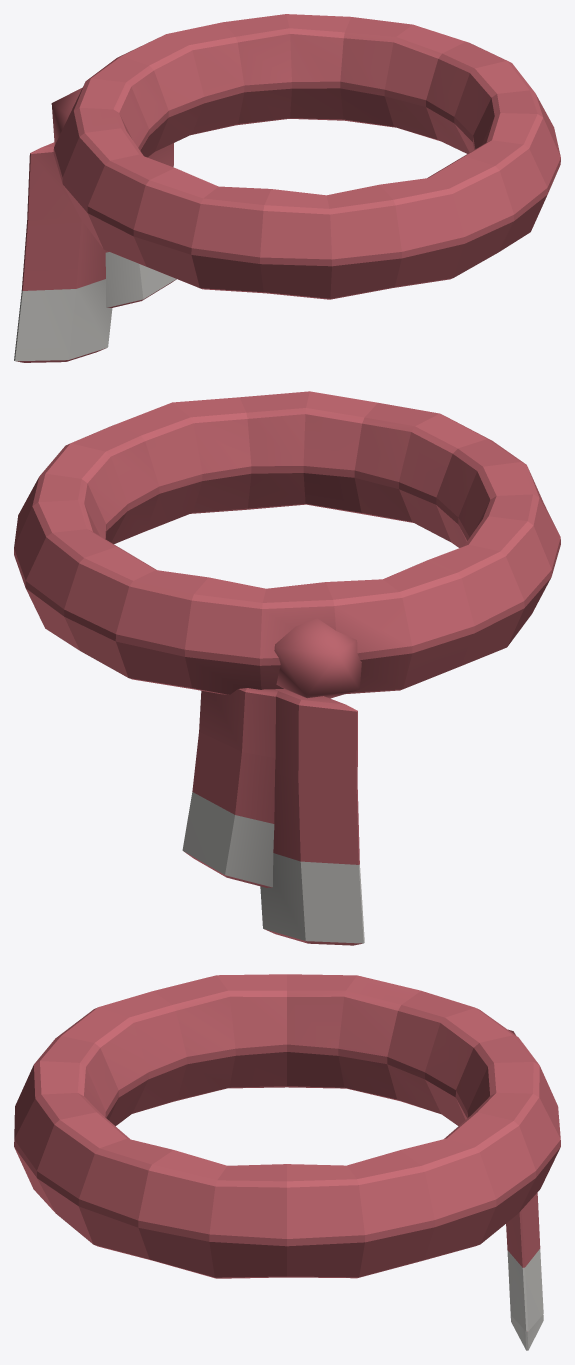
File: resident_scarf_red.glb
3 views of the same model, one above another, from view 1: azimuth 30°, elevation 25°; view 2: azimuth 150°, elevation 25°; view 3: azimuth 270°, elevation 25° (orthographic). The views are drawn at different scales.
Bounding box in the file's own units: 1.51 × 0.9858 × 1.5.
